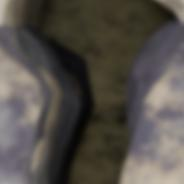broken_brick: (125, 22, 183, 183), (0, 25, 42, 183)
crack: (2, 0, 182, 183)
